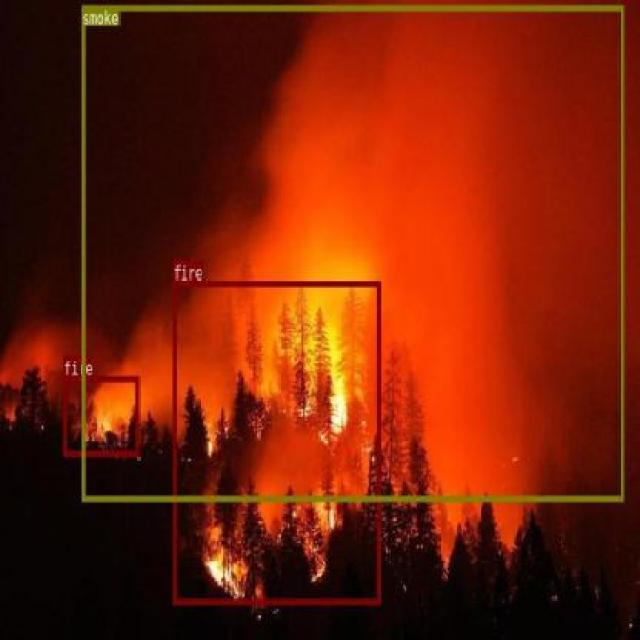fire: (172, 280, 380, 603), (62, 376, 138, 456)
smoke: (81, 4, 624, 500)
